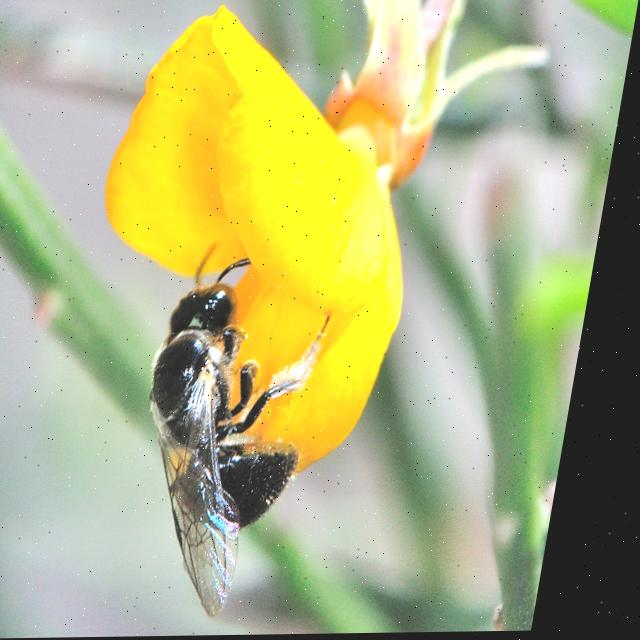Braunsapis: (127, 227, 363, 605)
